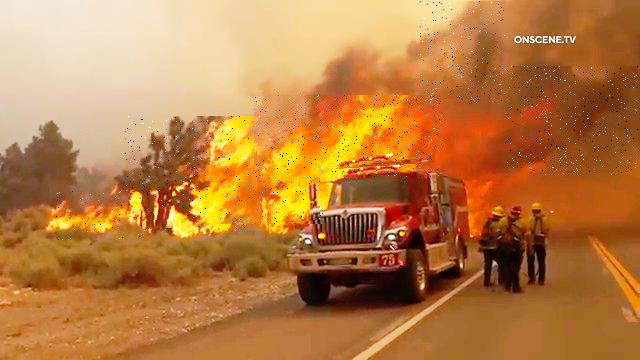fire: (254, 96, 443, 178), (125, 116, 256, 231), (258, 140, 324, 224), (56, 191, 142, 240)
smoke: (507, 67, 638, 176), (420, 2, 506, 105)
